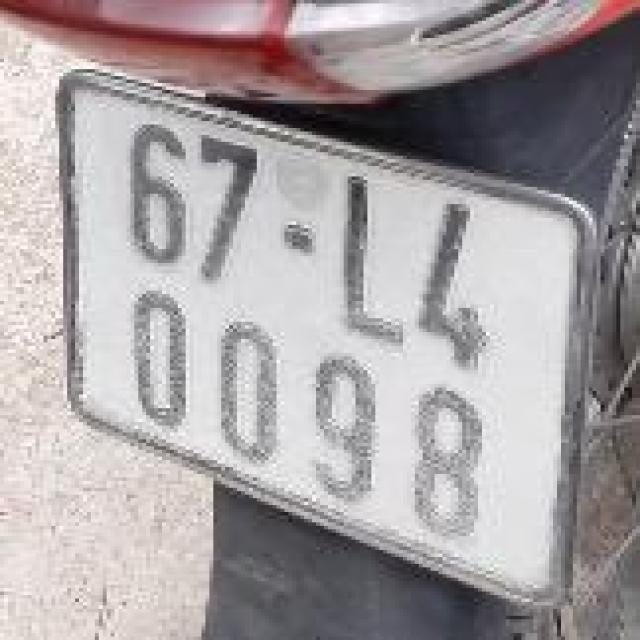0: (208, 310, 286, 476), (125, 280, 192, 436)
4: (421, 190, 512, 377)
6: (108, 112, 192, 272)
7: (193, 121, 264, 280)
8: (407, 379, 490, 548)
9: (300, 344, 391, 521)
L: (324, 164, 411, 351)
